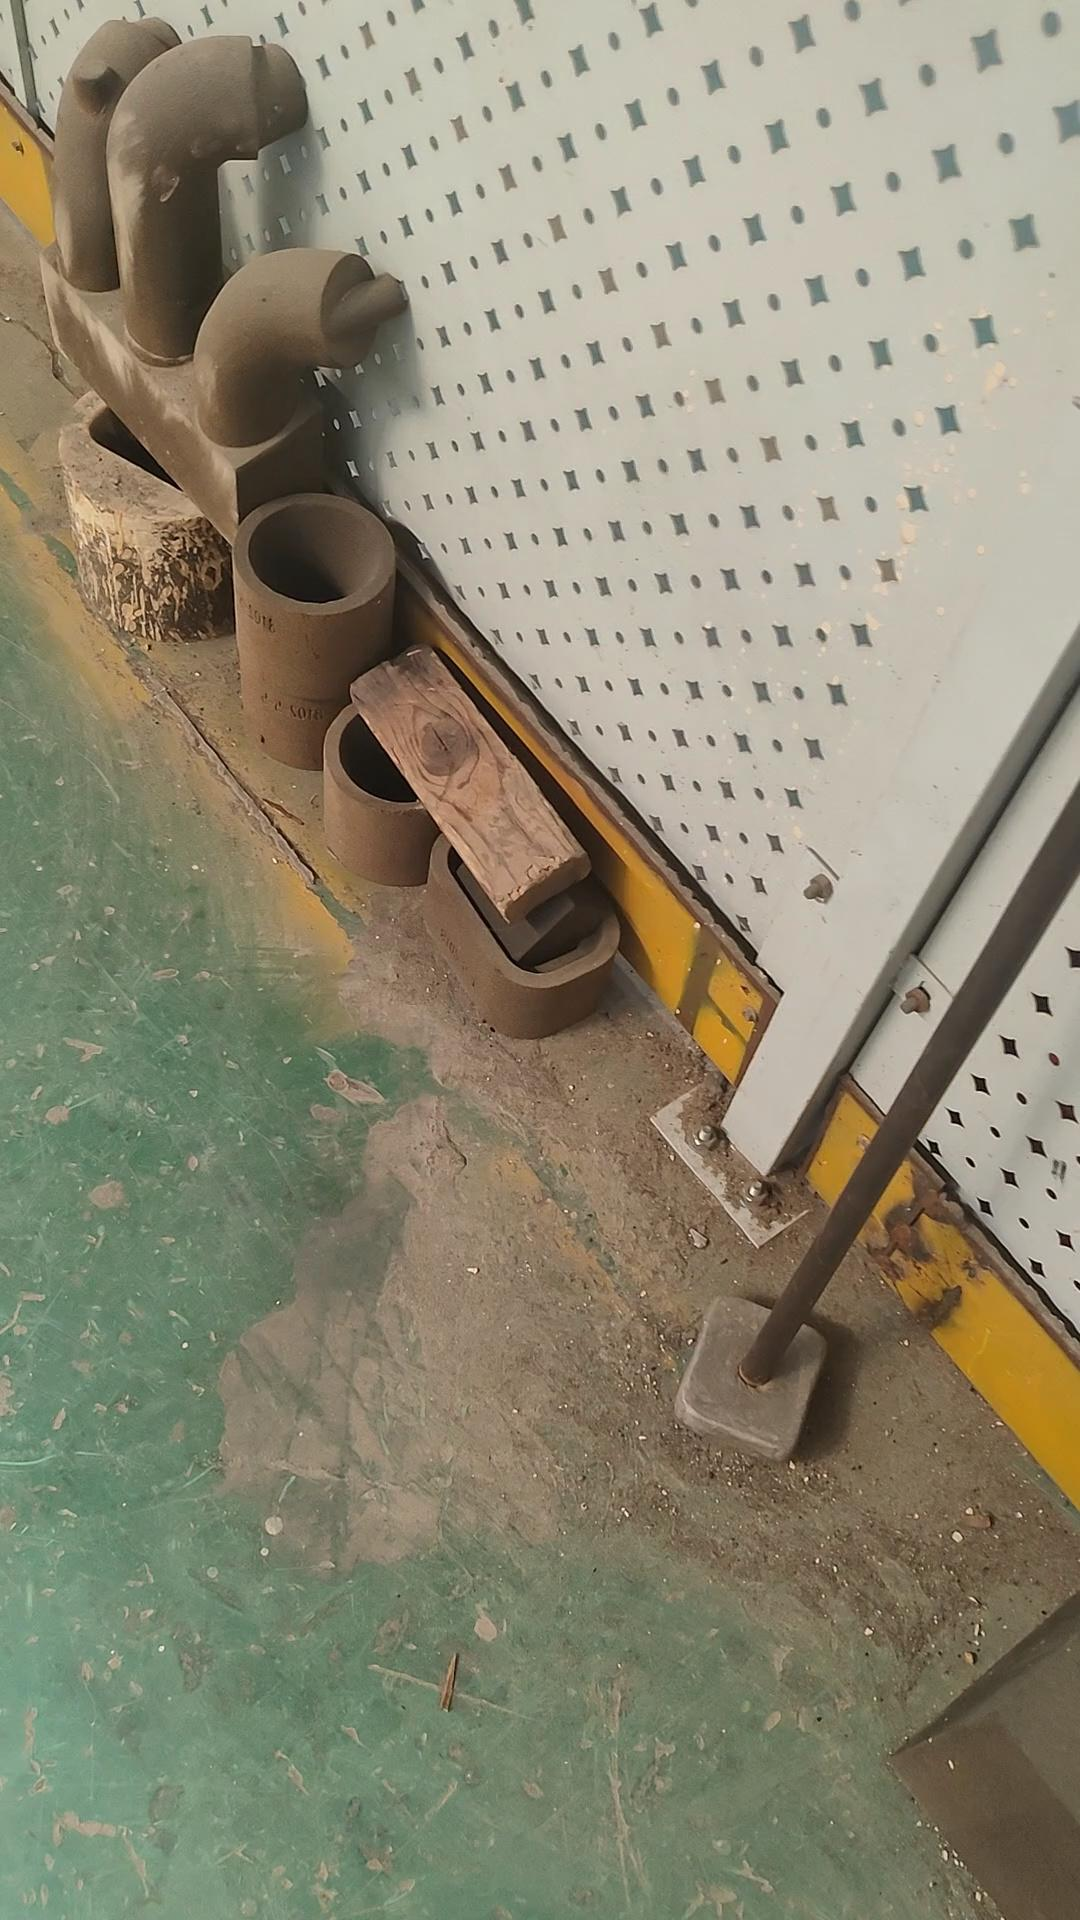pouring hole: (245, 504, 380, 603), (339, 702, 444, 803)
